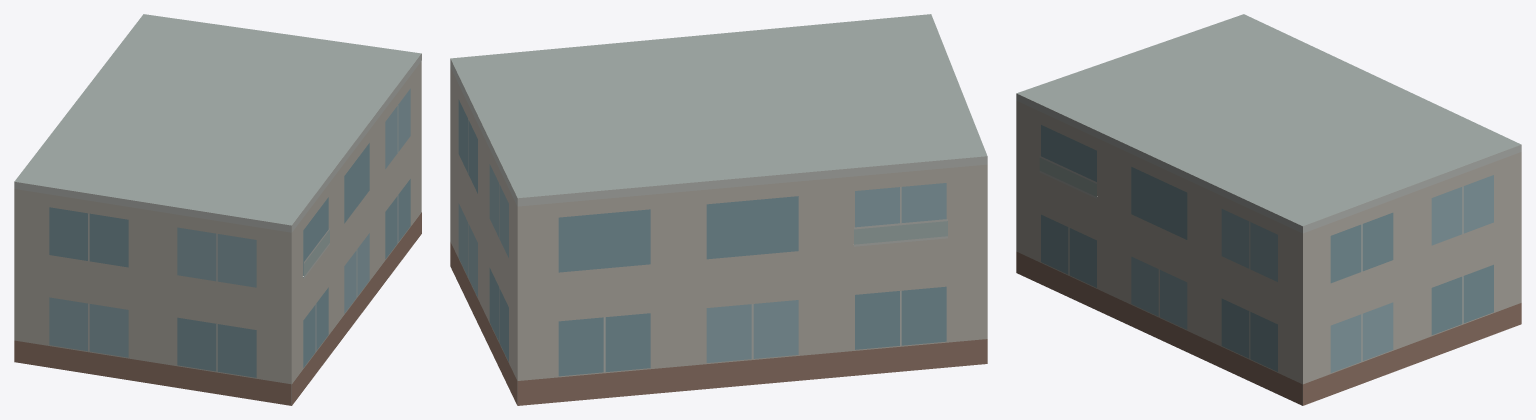
The model's file is survey-upis-32822823.glb.
The picture shows the model from 3 angles, left to right: view 1: azimuth 30°, elevation 25°; view 2: azimuth 150°, elevation 25°; view 3: azimuth 270°, elevation 25°; orthographic projection. The views are drawn at different scales.
Parts seen in each view (by area): view 1: survey-upis-32822823.tmp; view 2: survey-upis-32822823.tmp; view 3: survey-upis-32822823.tmp.
Boxes of the visible parts, bbox=[...] form: survey-upis-32822823.tmp: bbox=[14, 14, 421, 405]; survey-upis-32822823.tmp: bbox=[450, 14, 987, 405]; survey-upis-32822823.tmp: bbox=[1016, 14, 1521, 405].
Size of the model in its own units: 15.48 by 6.1 by 15.57.
